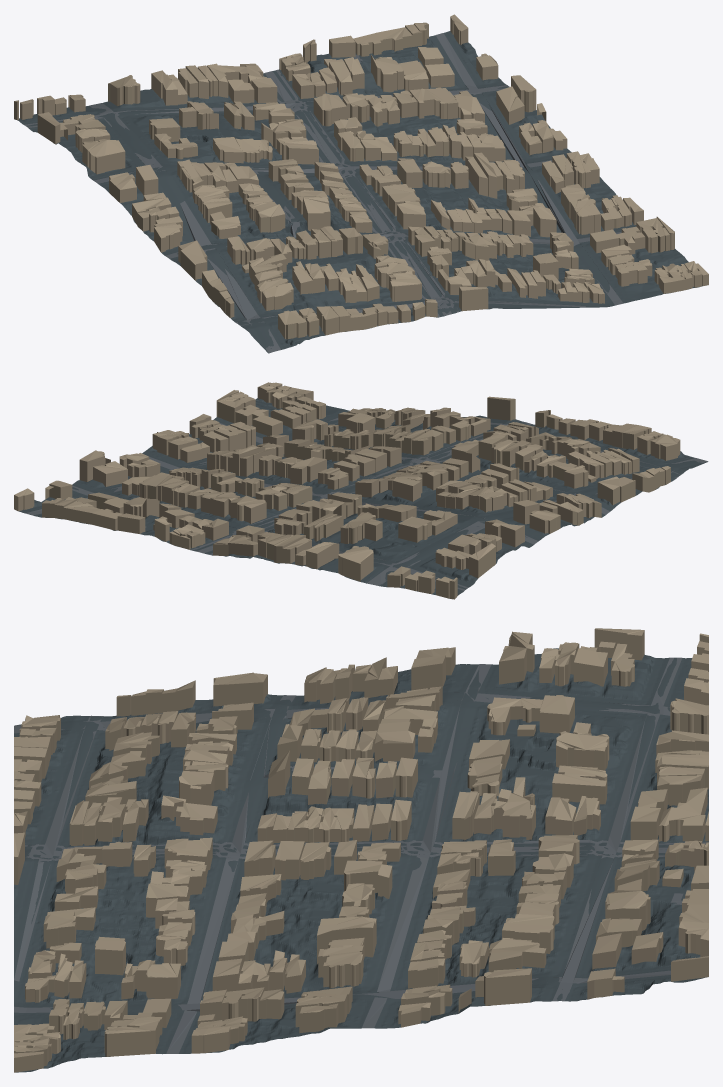
File: epsg26910-1430-10893.lod0.glb
3 renders of one model, top to bottom at view 1: azimuth 30°, elevation 25°; view 2: azimuth 150°, elevation 25°; view 3: azimuth 270°, elevation 25°, orthographic. The views are drawn at different scales.
Parts seen in each view (by area): view 1: epsg26910-1430-10893-lod0; view 2: epsg26910-1430-10893-lod0; view 3: epsg26910-1430-10893-lod0.
Boxes of the visible parts, <box> form: epsg26910-1430-10893-lod0: <box>14,14,708,353</box>; epsg26910-1430-10893-lod0: <box>14,382,708,599</box>; epsg26910-1430-10893-lod0: <box>14,628,708,1072</box>.
Size of the model in its own units: 384 by 93.29 by 384.
